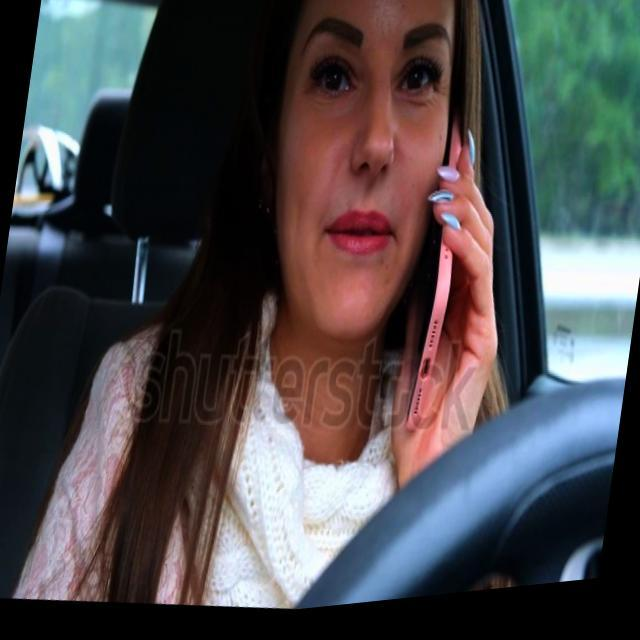PhoneCall: (394, 107, 480, 466)
